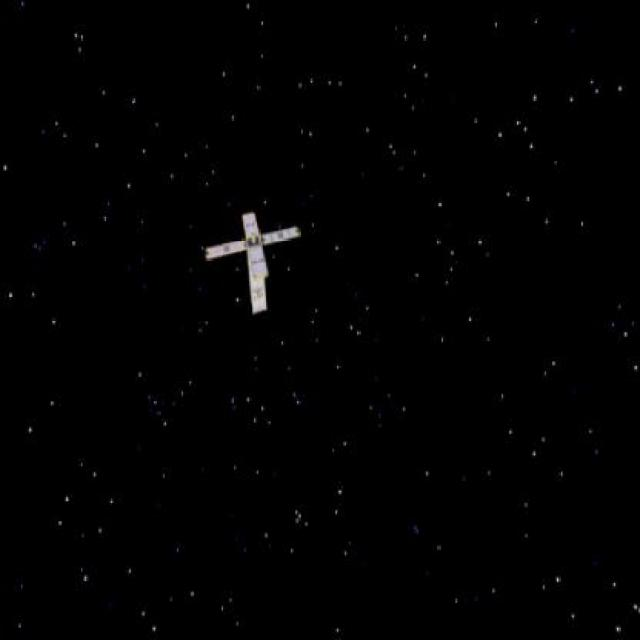medium_debris: (198, 206, 319, 327)
